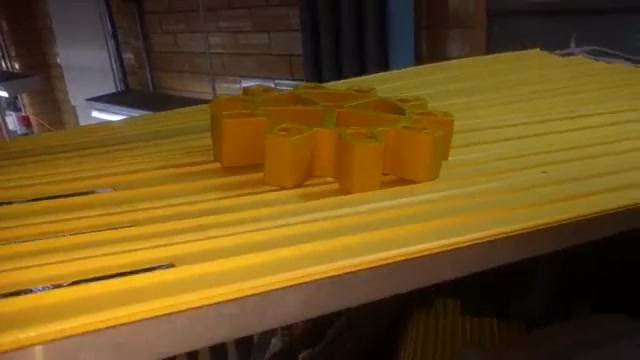gear: (204, 64, 466, 200)
